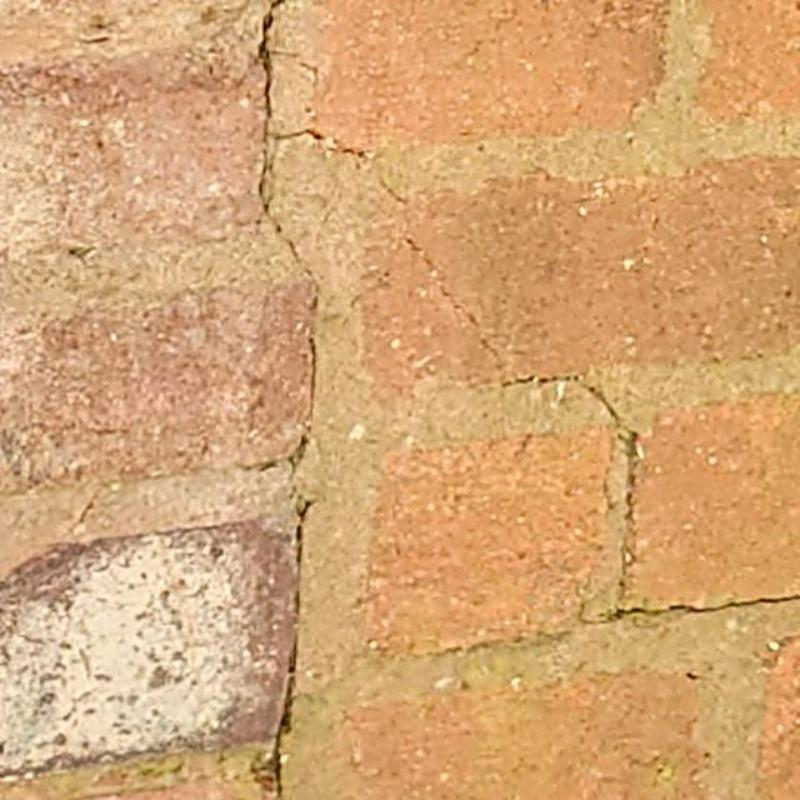pothole: (581, 429, 799, 626), (254, 0, 328, 312), (405, 235, 507, 379), (240, 337, 318, 478), (503, 374, 621, 428), (275, 629, 298, 799), (295, 494, 318, 614), (329, 146, 367, 161)
